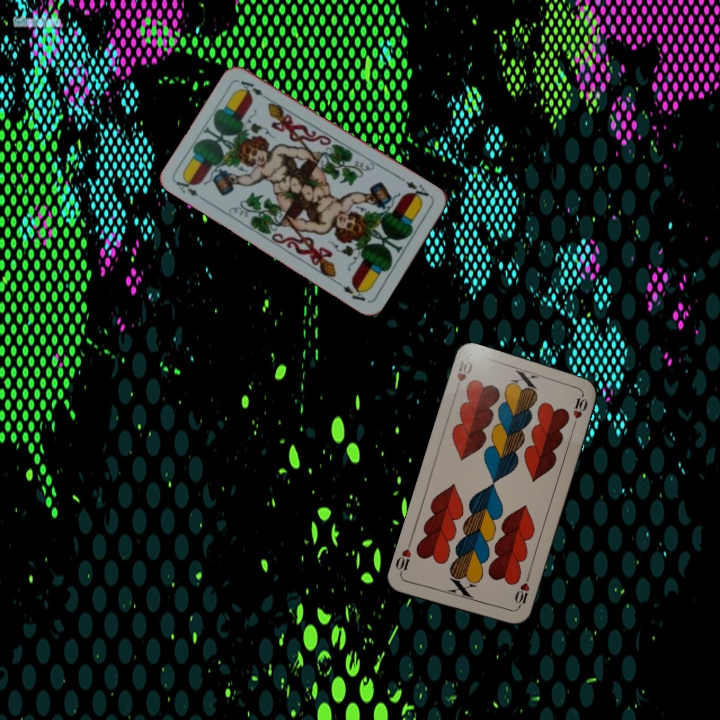EA: (172, 173, 209, 204), (397, 174, 434, 204)
H10: (451, 355, 475, 395), (510, 572, 532, 612)
